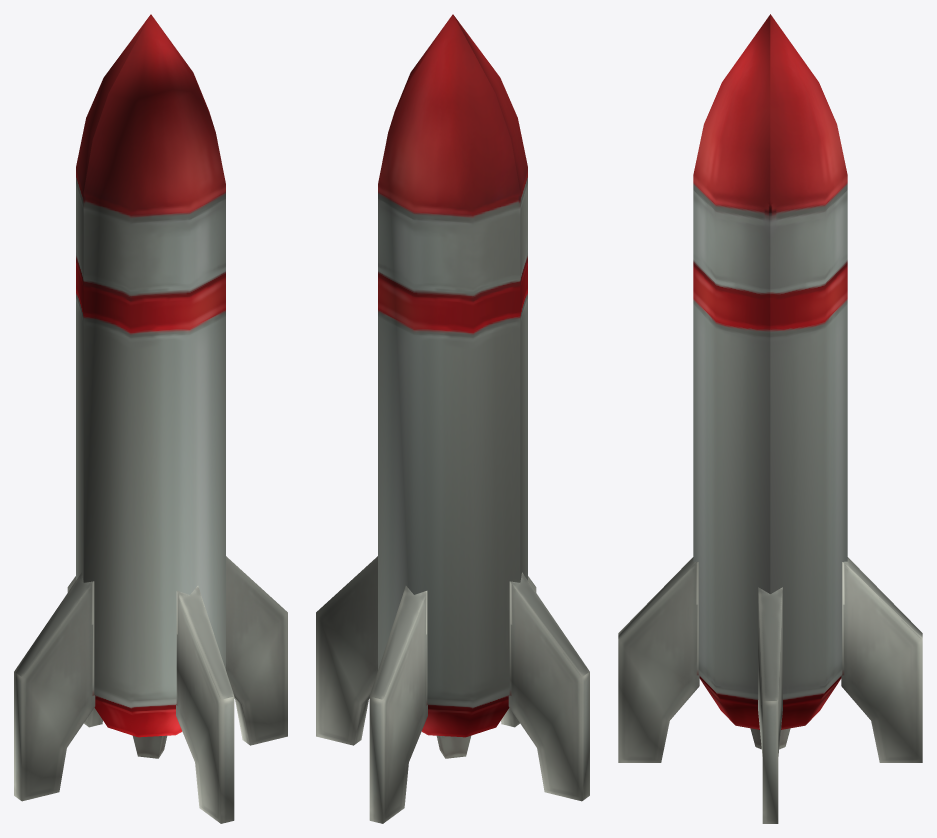
The model's file is Skill_missile_01.FBX.
The picture shows the model from 3 angles, left to right: view 1: azimuth 30°, elevation 25°; view 2: azimuth 150°, elevation 25°; view 3: azimuth 270°, elevation 25°; orthographic projection.
Visible parts, largest first — view 1: Skill_missile_01; view 2: Skill_missile_01; view 3: Skill_missile_01.
Part boxes in pixels (x1,y1,x2,y2): Skill_missile_01: (14, 14, 287, 823); Skill_missile_01: (316, 14, 589, 823); Skill_missile_01: (618, 14, 922, 823).
Bounding box in the file's own units: 76 × 205 × 76.
